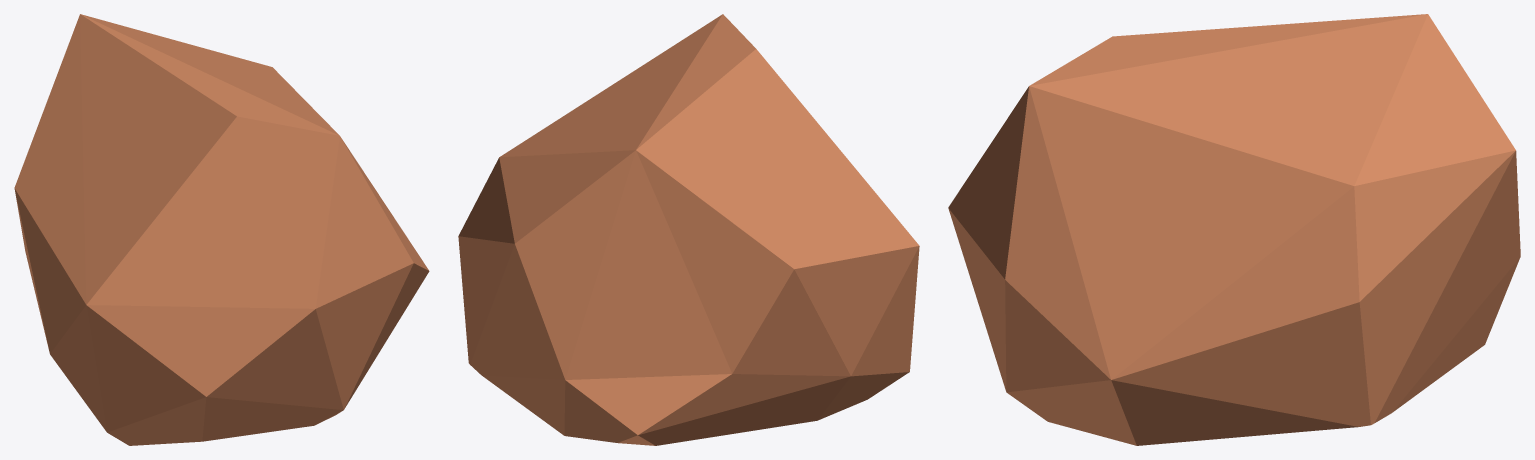
The model's file is fall island STONE 02.fbx.
3 renders of one model, left to right at view 1: azimuth 30°, elevation 25°; view 2: azimuth 150°, elevation 25°; view 3: azimuth 270°, elevation 25°, orthographic. The views are drawn at different scales.
Parts seen in each view (by area): view 1: STONE 02; view 2: STONE 02; view 3: STONE 02.
Part boxes in pixels (x1,y1,x2,y2): STONE 02: (14,14,429,445); STONE 02: (458,14,919,445); STONE 02: (948,14,1520,445).
Size of the model in its own units: 453 by 393 by 559.
